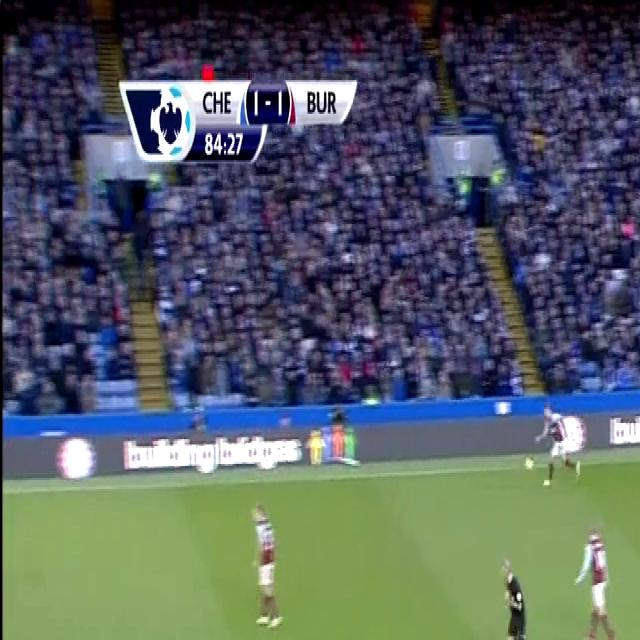ball: (526, 453, 544, 488)
referee: (493, 546, 538, 640)
soccer-player: (247, 492, 290, 639), (569, 521, 622, 640), (528, 394, 584, 492), (551, 403, 588, 489)
